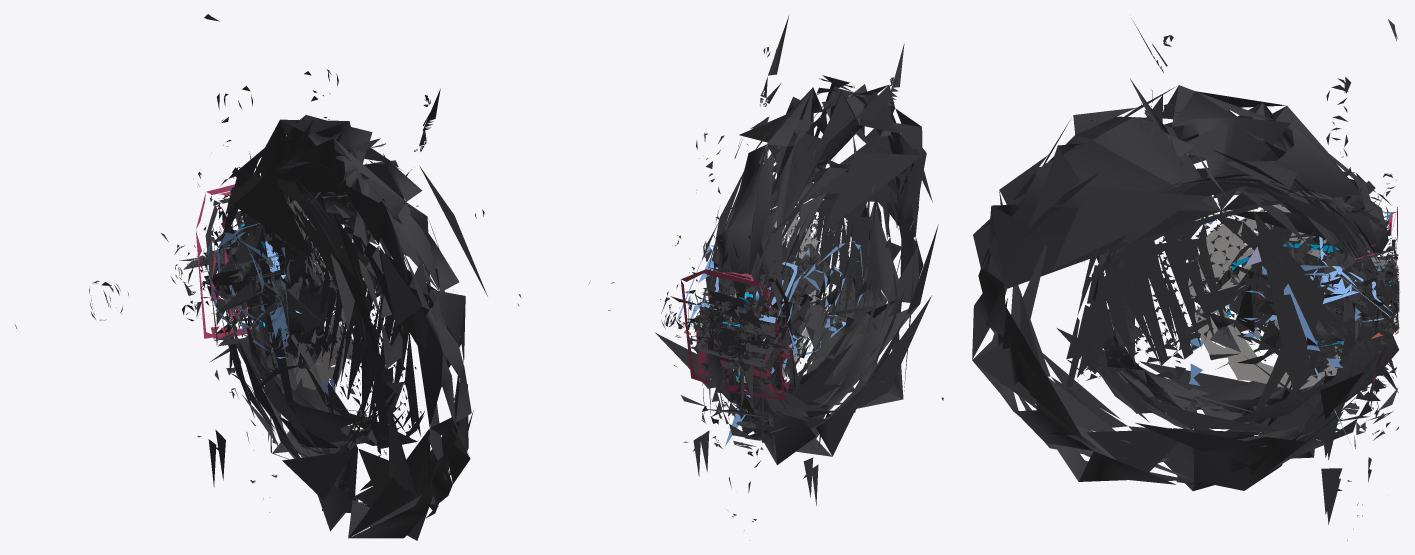
File: moto_web.glb
3 renders of one model, left to right at view 1: azimuth 30°, elevation 25°; view 2: azimuth 150°, elevation 25°; view 3: azimuth 270°, elevation 25°, orthographic. The views are drawn at different scales.
Parts seen in each view (by area): view 1: SSM1-RW-T-17PRC, SSM1-FW-T-17PRC, SSM1-RIM-450X17-E, SSM1-RIM-350X17-E, Mesh_2401, Mesh_2388, Mesh_2226, SSM1-BR-FW-320, SMX1-F-W-05, Mesh_2018, Mesh_2368, SMX1-P-CF-03 (+5 smaller); view 2: SSM1-RW-T-17PRC, SSM1-FW-T-17PRC, SSM1-RIM-450X17-E, Mesh_2401, SSM1-RIM-350X17-E, Mesh_2018, Mesh_2368, Mesh_2226, Mesh_2388, Mesh_518, Mesh_2031, Mesh_2334 (+7 smaller); view 3: SSM1-RW-T-17PRC, SSM1-FW-T-17PRC, Mesh_2388, SSM1-RIM-450X17-E, SSM1-RIM-350X17-E, Mesh_2401, SSM1-BR-FW-320, Mesh_2226, Mesh_2018, Mesh_518, SSM1-FW-R-02, SMX1-P-CF-02 (+5 smaller).
Part boxes in pixels (left/top/right/bottom): SSM1-RW-T-17PRC: left=216, top=115, right=487, bottom=531; SSM1-FW-T-17PRC: left=220, top=121, right=473, bottom=540; SSM1-RIM-450X17-E: left=221, top=173, right=424, bottom=457; SSM1-RIM-350X17-E: left=226, top=174, right=408, bottom=453; Mesh_2401: left=256, top=166, right=432, bottom=450; Mesh_2388: left=221, top=167, right=420, bottom=463; Mesh_2226: left=205, top=219, right=393, bottom=394; SSM1-BR-FW-320: left=271, top=196, right=347, bottom=392; SMX1-F-W-05: left=242, top=151, right=340, bottom=448; Mesh_2018: left=214, top=89, right=440, bottom=512; Mesh_2368: left=195, top=184, right=253, bottom=340; SMX1-P-CF-03: left=265, top=257, right=337, bottom=344; SSM1-RW-T-17PRC: left=707, top=83, right=938, bottom=456; SSM1-FW-T-17PRC: left=705, top=84, right=932, bottom=465; SSM1-RIM-450X17-E: left=706, top=159, right=907, bottom=417; Mesh_2401: left=700, top=183, right=895, bottom=424; SSM1-RIM-350X17-E: left=707, top=159, right=886, bottom=421; Mesh_2018: left=700, top=16, right=904, bottom=530; Mesh_2368: left=680, top=269, right=790, bottom=400; Mesh_2226: left=676, top=240, right=863, bottom=446; Mesh_2388: left=723, top=195, right=899, bottom=430; Mesh_518: left=655, top=133, right=818, bottom=505; Mesh_2031: left=688, top=158, right=802, bottom=467; Mesh_2334: left=689, top=262, right=795, bottom=392; SSM1-RW-T-17PRC: left=987, top=85, right=1398, bottom=490; SSM1-FW-T-17PRC: left=972, top=95, right=1398, bottom=485; Mesh_2388: left=1066, top=171, right=1394, bottom=402; SSM1-RIM-450X17-E: left=1081, top=168, right=1371, bottom=451; SSM1-RIM-350X17-E: left=1098, top=154, right=1384, bottom=447; Mesh_2401: left=1066, top=188, right=1393, bottom=422; SSM1-BR-FW-320: left=1188, top=204, right=1387, bottom=389; Mesh_2226: left=1174, top=206, right=1398, bottom=445; Mesh_2018: left=1130, top=18, right=1393, bottom=540; Mesh_518: left=1320, top=77, right=1364, bottom=524; SSM1-FW-R-02: left=1117, top=205, right=1398, bottom=369; SMX1-P-CF-02: left=1193, top=250, right=1393, bottom=332.
Bounding box in the file's own units: 0.8188 × 0.826 × 0.6406.
